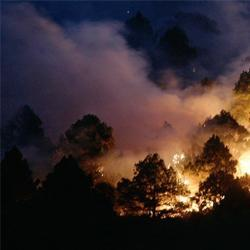fire: (174, 194, 200, 212)
